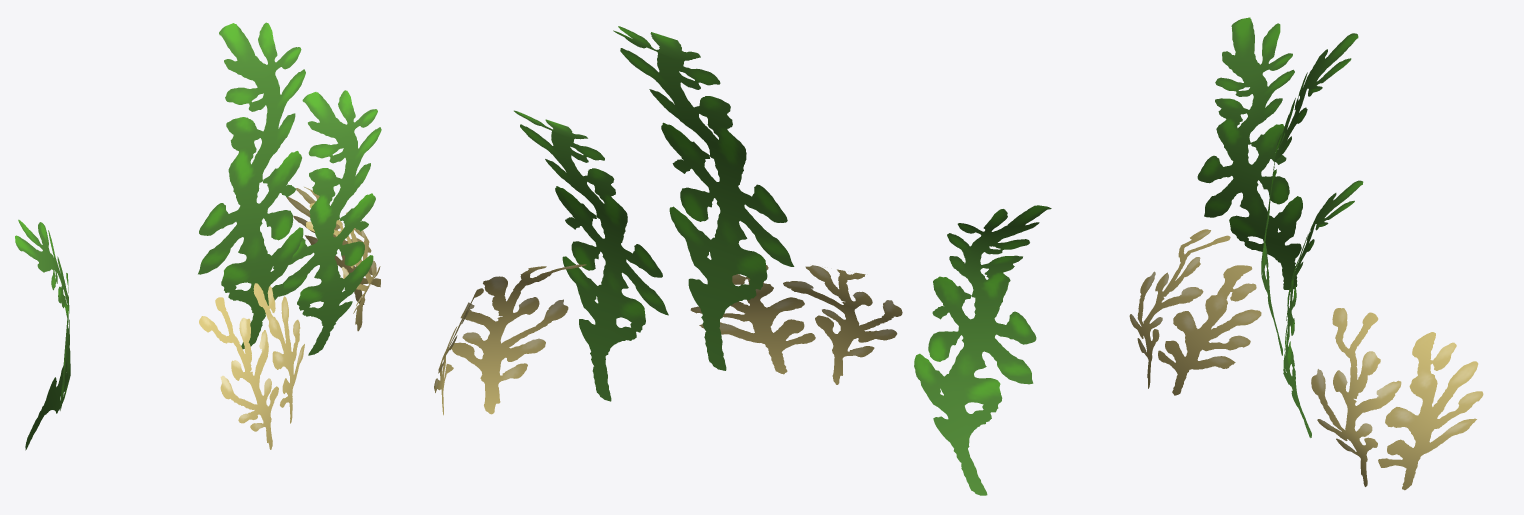
Rendered from flowers_01.fbx.
3 renders of one model, left to right at view 1: azimuth 30°, elevation 25°; view 2: azimuth 150°, elevation 25°; view 3: azimuth 270°, elevation 25°, orthographic. The views are drawn at different scales.
Parts seen in each view (by area): view 1: plants1; view 2: plants1; view 3: plants1.
Part boxes in pixels (x1=…): plants1: x1=15, y1=22, x2=381, y2=450; plants1: x1=434, y1=26, x2=1051, y2=495; plants1: x1=1129, y1=17, x2=1483, y2=490.
Bounding box in the file's own units: 0.5238 × 0.408 × 0.3495.
